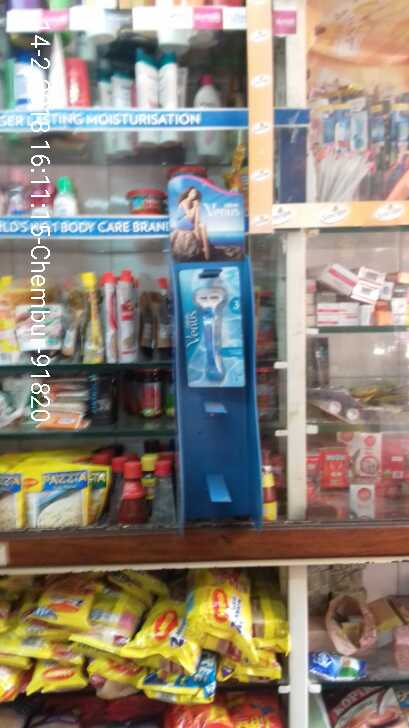venus: (173, 265, 254, 399)
